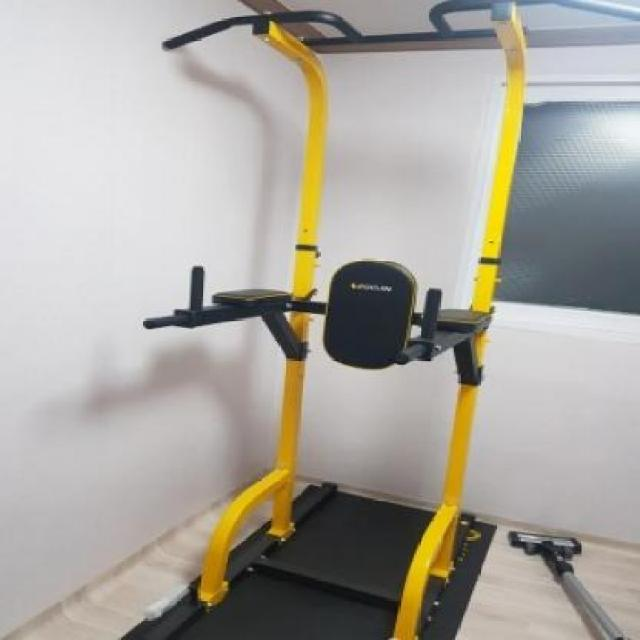chinning dipping: (163, 0, 640, 640)
